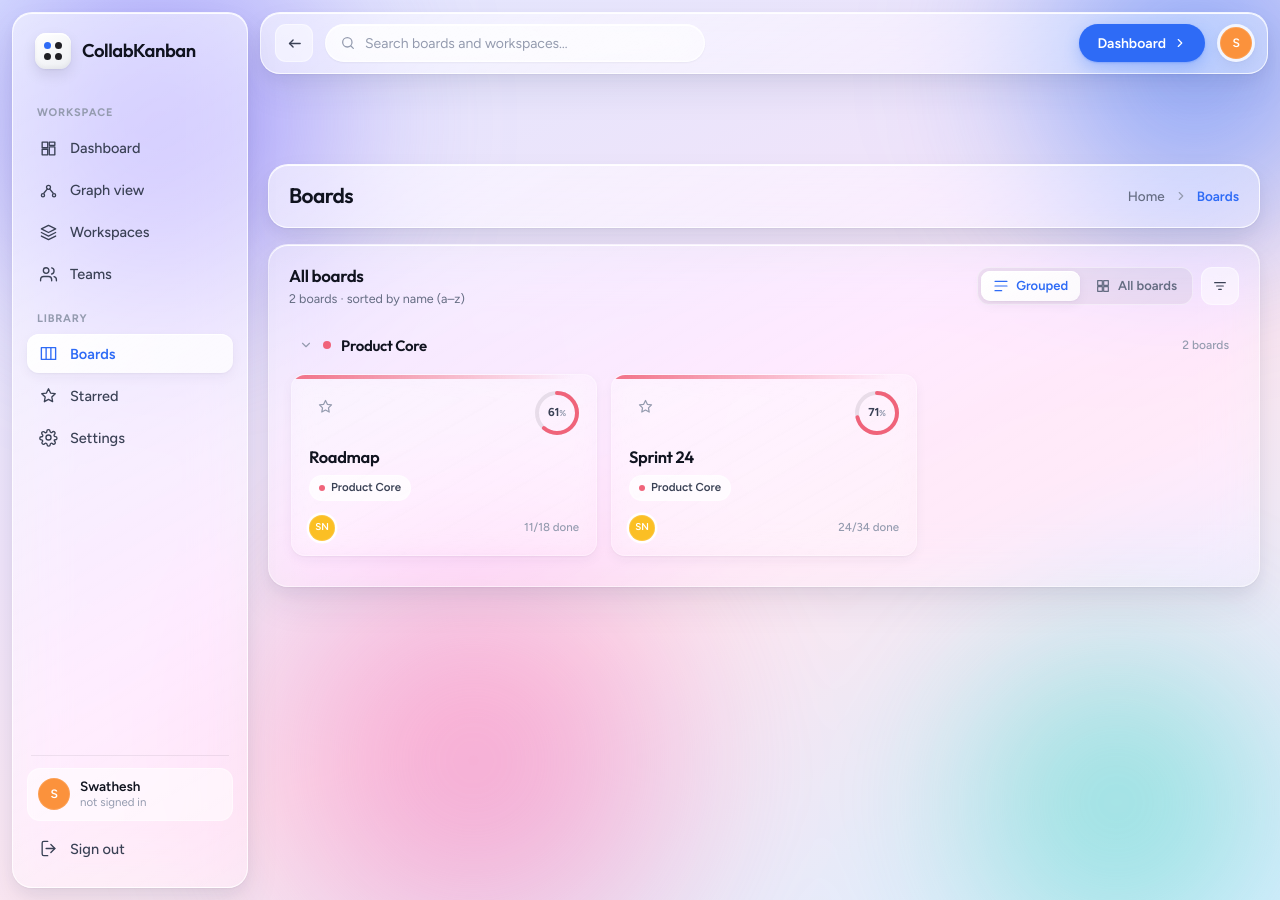
Scenario: BoardsPage › filters the grid from the top-bar search
Expected: the heading "Sprint 24" is shown, [629, 446, 694, 467]
In the field labelled "Search boards": (528, 43) [365, 34, 690, 52], type "roadmap"
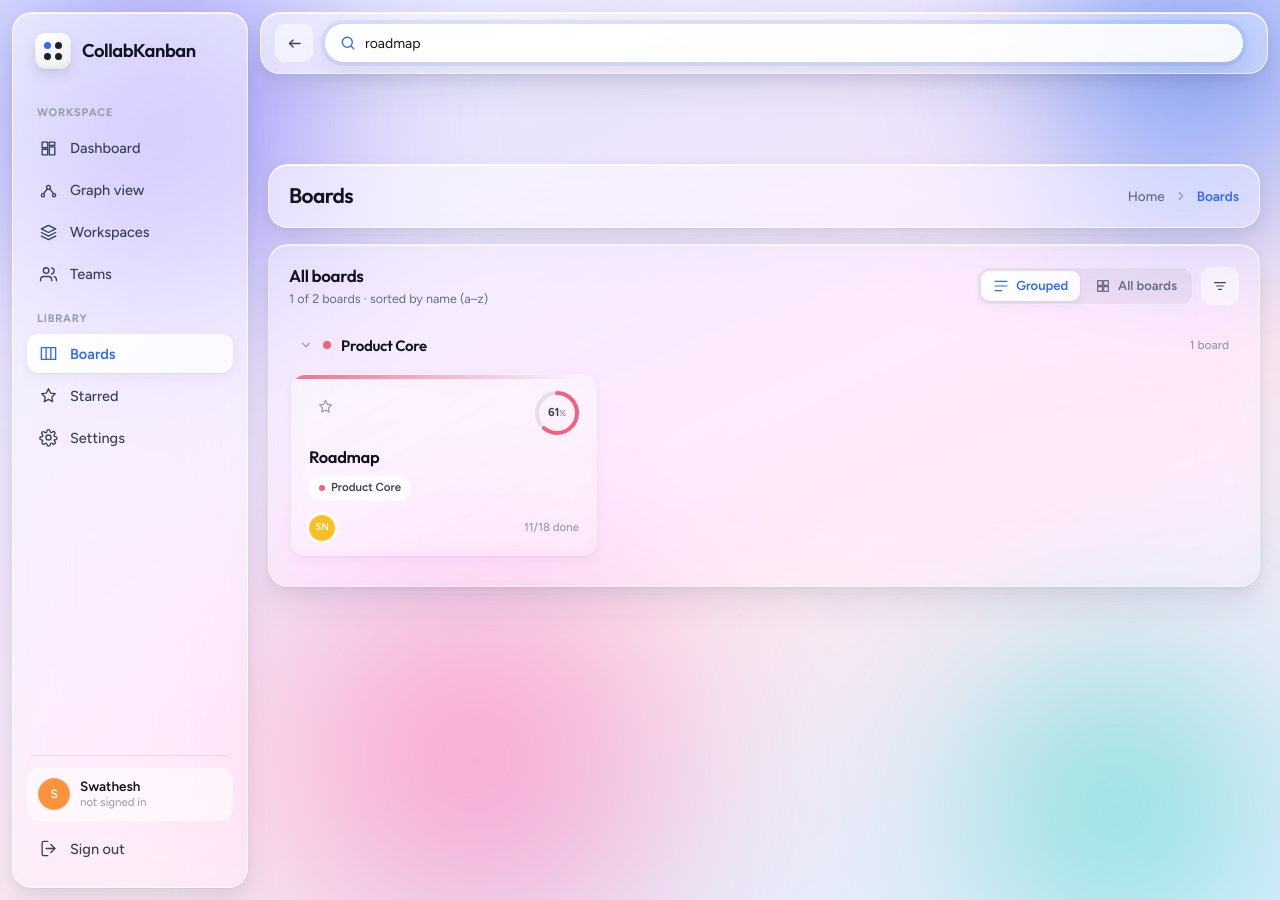
Expected: the heading "Roadmap" is shown, [309, 446, 379, 467]
Result: the button "Sprint 24" is gone
